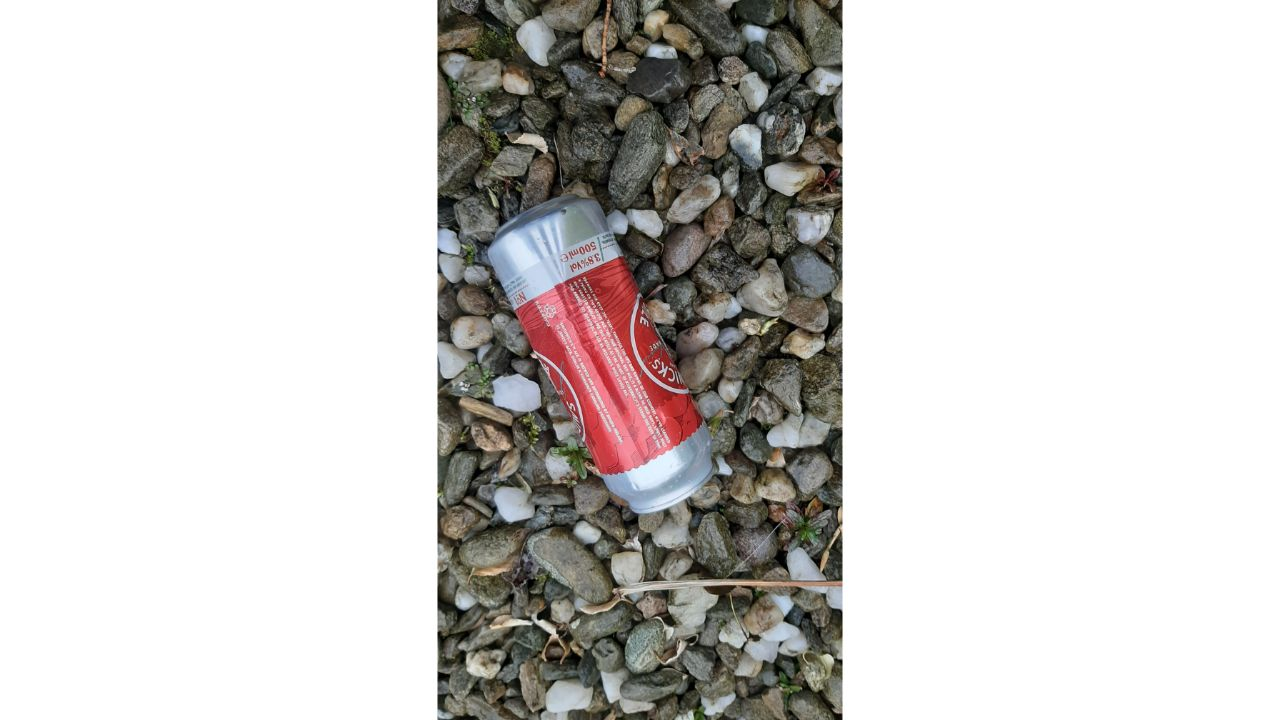Can: (488, 193, 710, 517)
